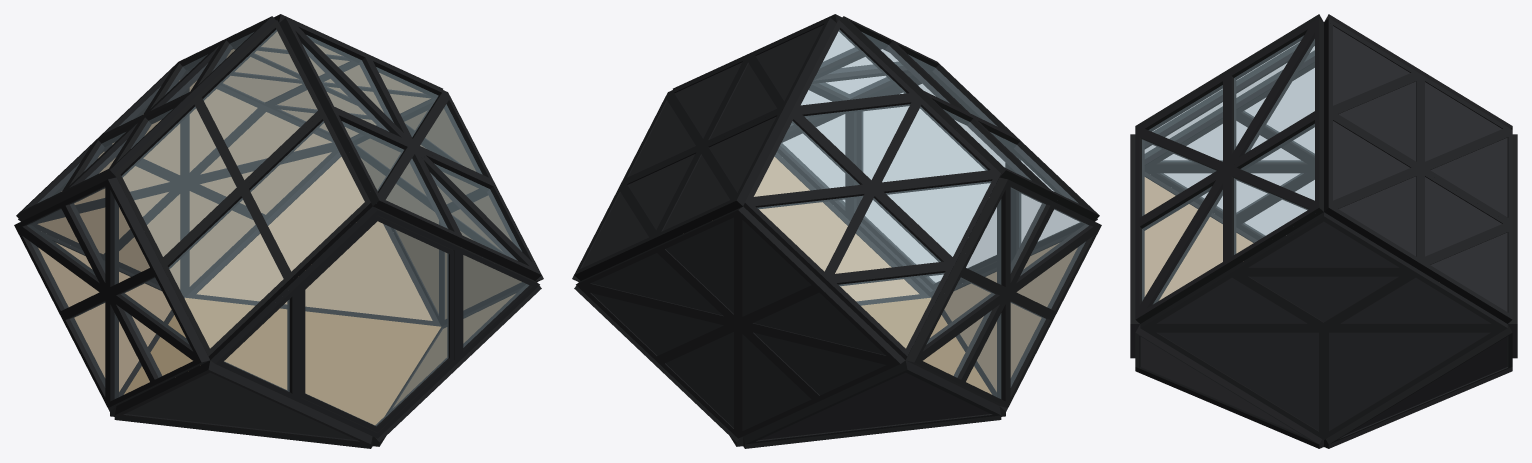
The model's file is cubic.glb.
3 views of the same model, side by side, from view 1: azimuth 30°, elevation 25°; view 2: azimuth 150°, elevation 25°; view 3: azimuth 270°, elevation 25° (orthographic). The views are drawn at different scales.
Parts seen in each view (by area): view 1: estructura_marco_negro, vidrios_vidrio, cerramiento_revestimiento_madera, puerta_hoja_1, base_piso, cerramiento_chapa_negra, base_marco_negro; view 2: estructura_marco_negro, cerramiento_chapa_negra, vidrios_vidrio, puerta_hoja_1, cerramiento_revestimiento_madera, base_piso, base_marco_negro; view 3: estructura_marco_negro, cerramiento_chapa_negra, vidrios_vidrio, cerramiento_revestimiento_madera, base_marco_negro.
Boxes of the visible parts, bbox=[...] form: estructura_marco_negro: bbox=[14, 14, 543, 444]; vidrios_vidrio: bbox=[27, 30, 528, 398]; cerramiento_revestimiento_madera: bbox=[38, 31, 521, 407]; puerta_hoja_1: bbox=[301, 215, 454, 432]; base_piso: bbox=[124, 297, 440, 424]; cerramiento_chapa_negra: bbox=[125, 372, 356, 440]; base_marco_negro: bbox=[110, 406, 385, 448]; estructura_marco_negro: bbox=[572, 14, 1101, 444]; cerramiento_chapa_negra: bbox=[581, 25, 990, 440]; vidrios_vidrio: bbox=[754, 30, 1088, 398]; puerta_hoja_1: bbox=[856, 74, 1007, 289]; cerramiento_revestimiento_madera: bbox=[754, 157, 1077, 391]; base_piso: bbox=[861, 297, 991, 394]; base_marco_negro: bbox=[730, 406, 1005, 448]; estructura_marco_negro: bbox=[1130, 14, 1517, 444]; cerramiento_chapa_negra: bbox=[1140, 26, 1507, 435]; vidrios_vidrio: bbox=[1142, 36, 1314, 303]; cerramiento_revestimiento_madera: bbox=[1144, 177, 1253, 300]; base_marco_negro: bbox=[1135, 367, 1512, 448].
Size of the model in its own units: 3.48 by 3.5 by 3.48.
